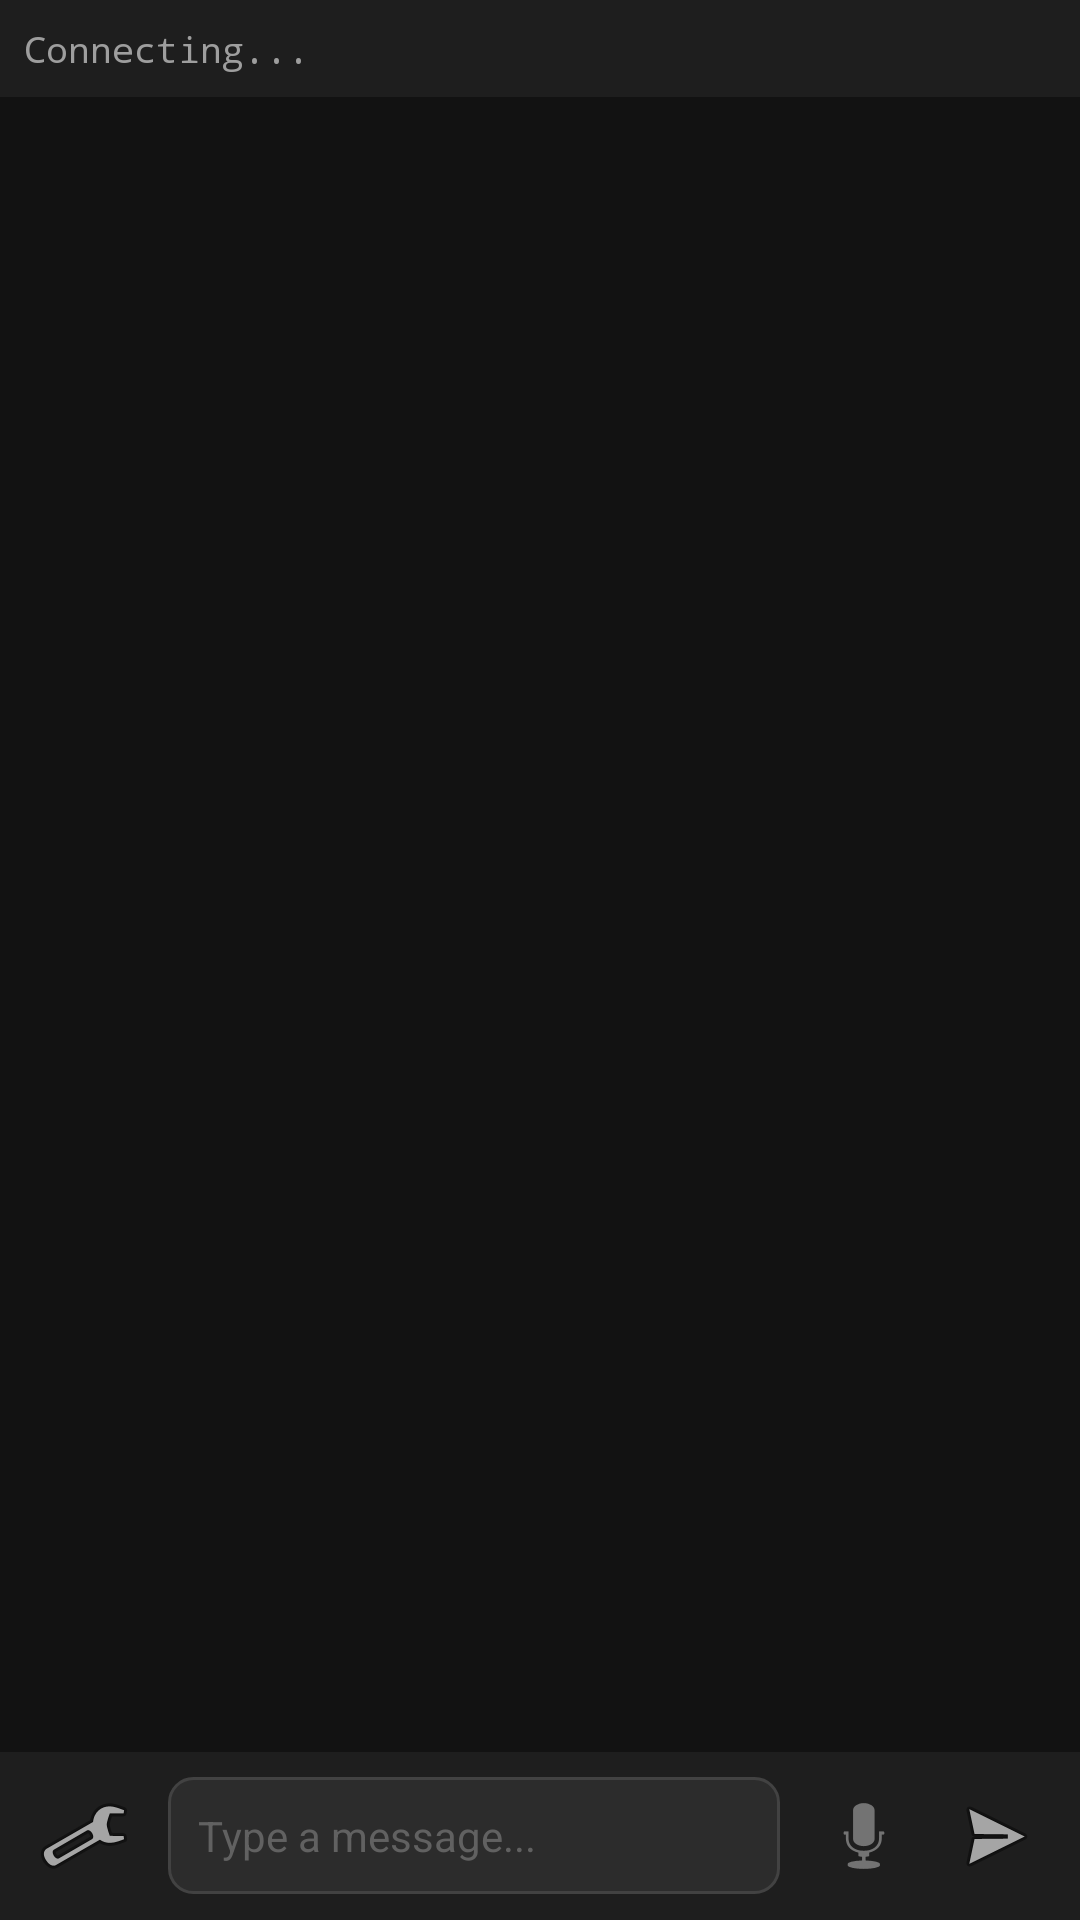

Where to tap for icons on this 1080px×1920px app screen, as [x,y]:
Send: [997,1836]
Settings: [84,1836]
Voice input: [864,1836]
